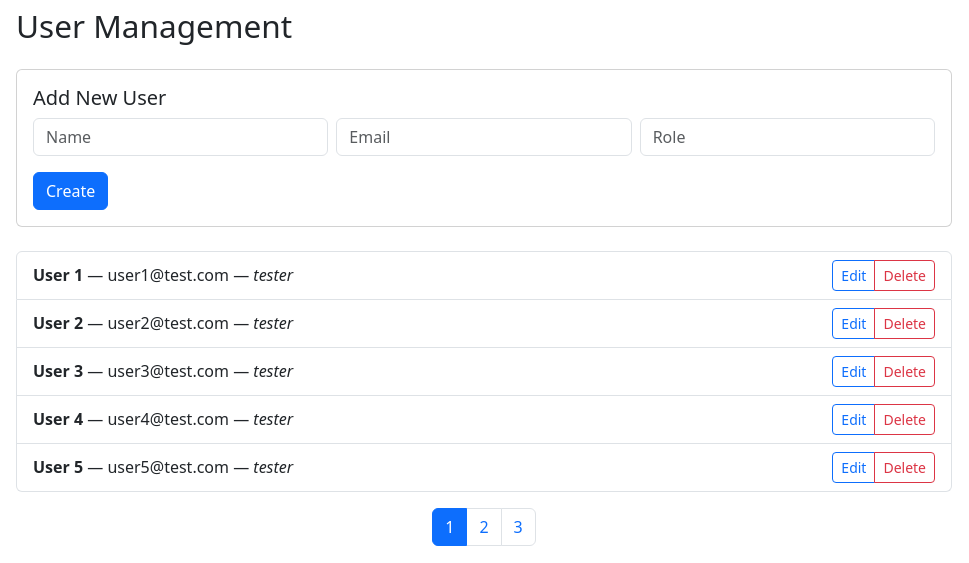
Test: UserManagement component › updates the current page when a page button is clicked
Click the button "3" at (518, 527), box x1=501 y1=508 x2=536 y2=546
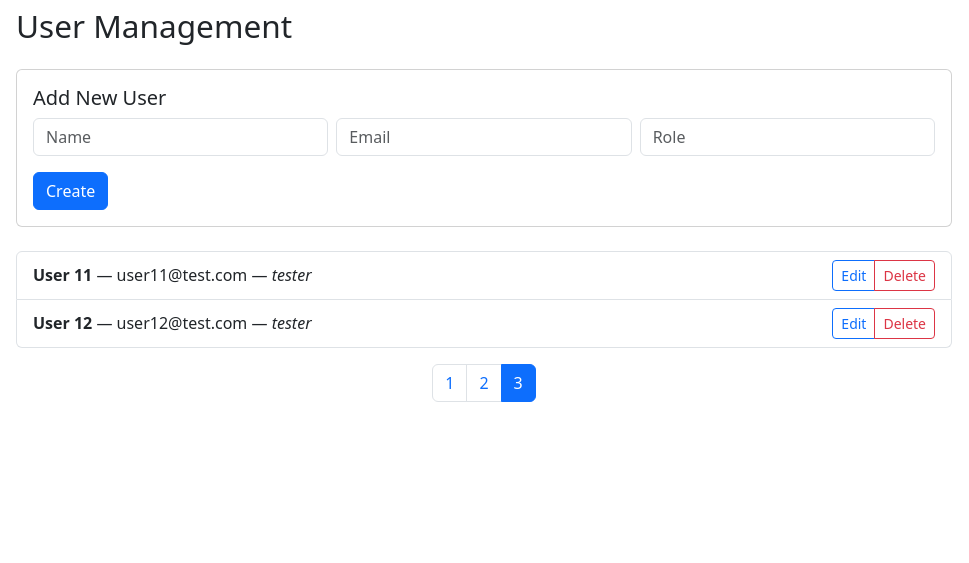
Check: the list item "User 11 — user11@test.com — tester Edit Delete" is shown, box x1=16 y1=251 x2=952 y2=300
Check: the list item "User 12 — user12@test.com — tester Edit Delete" is shown, box x1=16 y1=300 x2=952 y2=348
